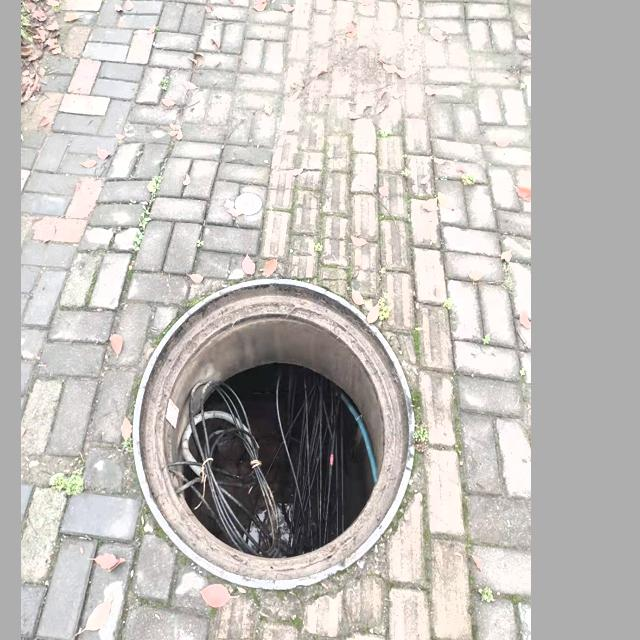lose: (132, 276, 413, 593)
